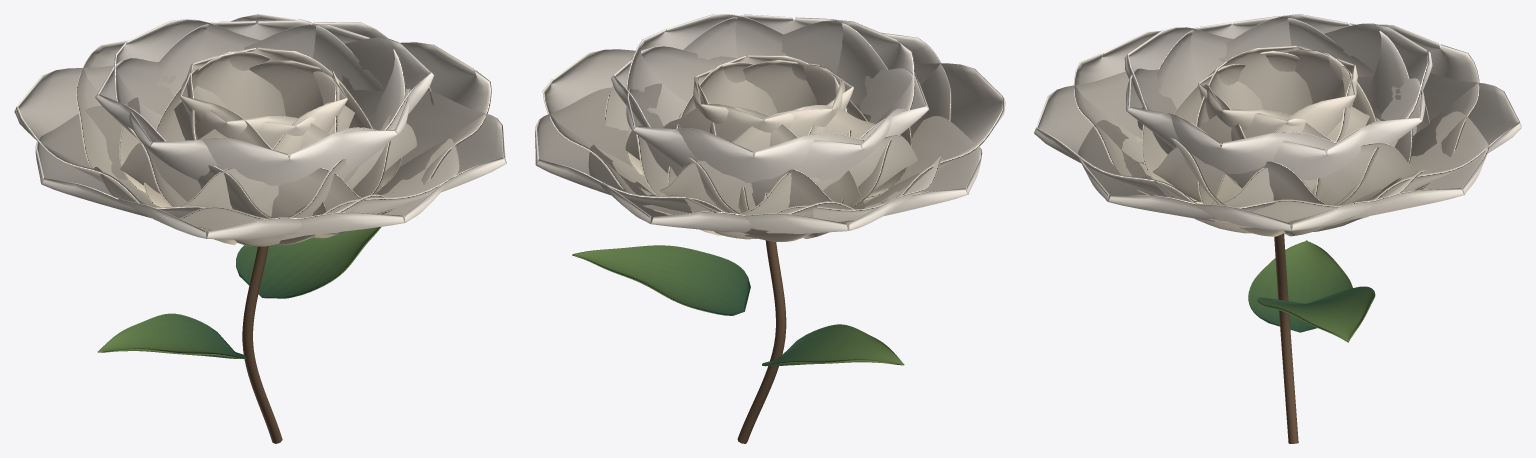
The model's file is camellia.glb.
3 renders of one model, left to right at view 1: azimuth 30°, elevation 25°; view 2: azimuth 150°, elevation 25°; view 3: azimuth 270°, elevation 25°, orthographic. The views are drawn at different scales.
Visible parts, largest first — view 1: 山茶 (×26); view 2: 山茶 (×26); view 3: 山茶 (×25).
Part boxes in pixels (left/top/right/bottom): 山茶 (×26): left=14, top=14, right=506, bottom=443; 山茶 (×26): left=535, top=14, right=1005, bottom=443; 山茶 (×25): left=1034, top=14, right=1521, bottom=443.
Bounding box in the file's own units: 0.8207 × 0.686 × 0.8309.
